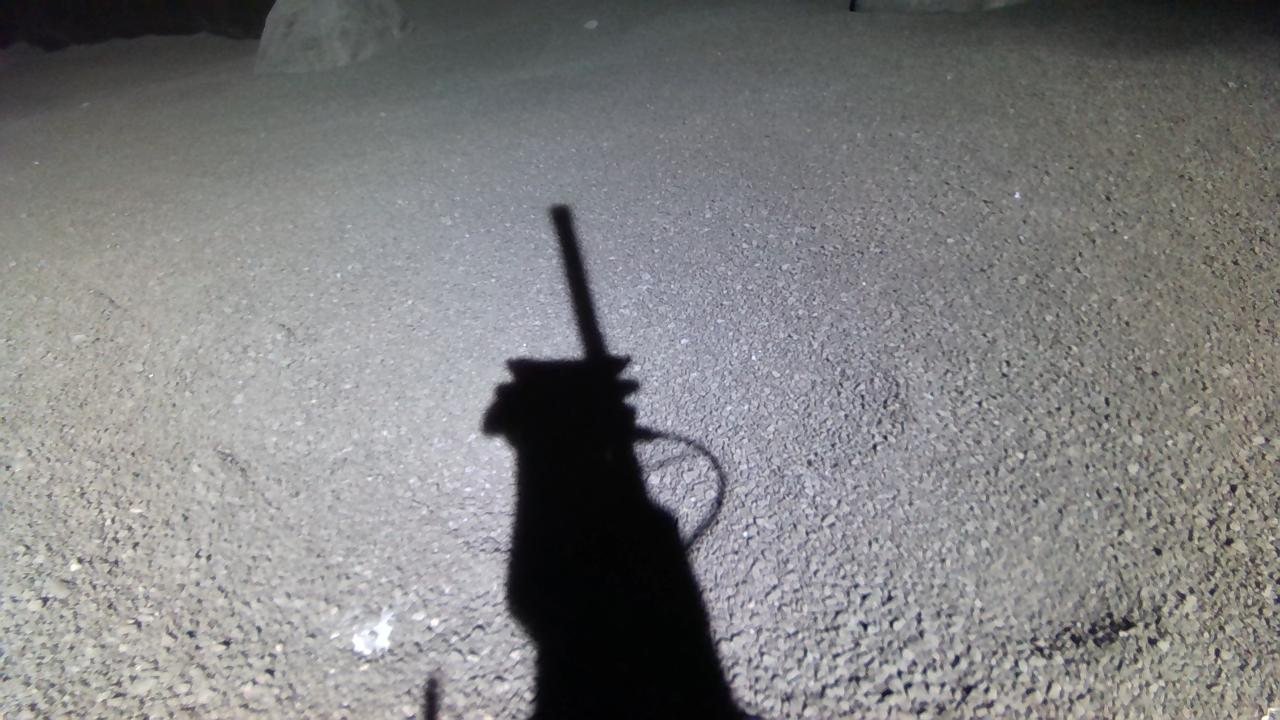rock: (255, 0, 412, 72)
